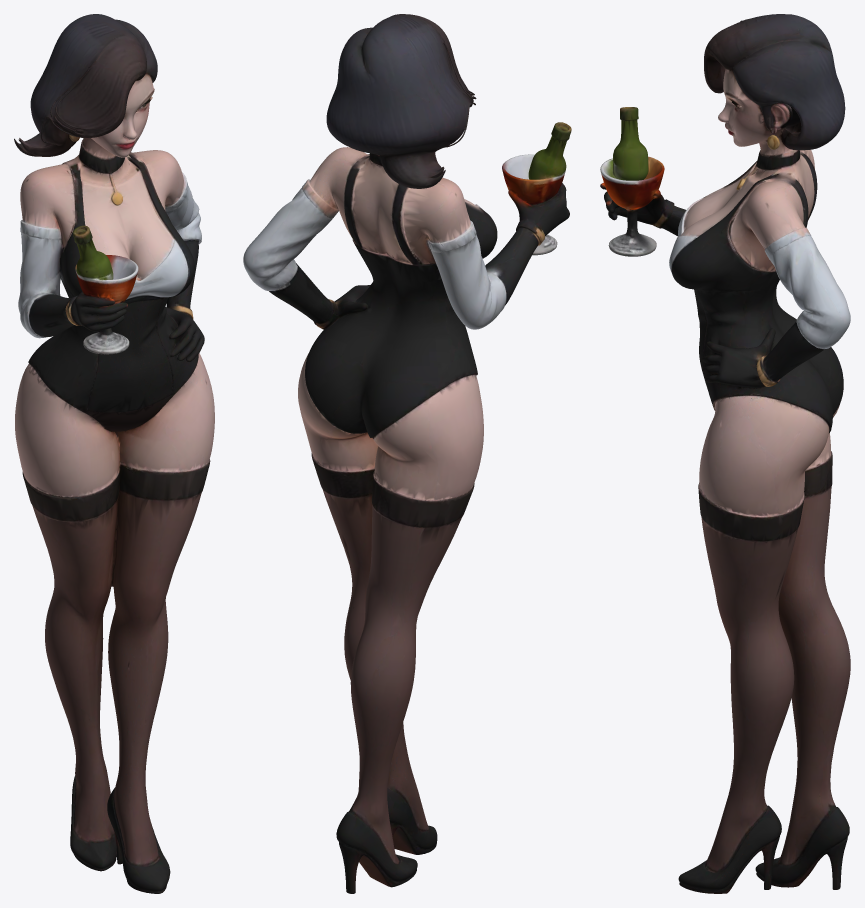
The model's file is bartender.glb.
3 renders of one model, left to right at view 1: azimuth 30°, elevation 25°; view 2: azimuth 150°, elevation 25°; view 3: azimuth 270°, elevation 25°, orthographic. The views are drawn at different scales.
Parts seen in each view (by area): view 1: node_0; view 2: node_0; view 3: node_0.
Boxes of the visible parts, x1=… form: node_0: x1=14, y1=14, x2=214, y2=893; node_0: x1=243, y1=14, x2=571, y2=893; node_0: x1=600, y1=14, x2=850, y2=893.
Size of the model in its own units: 0.3206 by 1.17 by 0.3072.
1 material, 1 textured.
